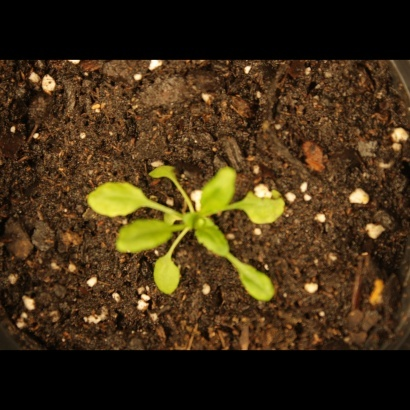leaf: (84, 178, 156, 219), (113, 216, 175, 257), (198, 163, 240, 220), (232, 259, 281, 304), (243, 184, 293, 227), (195, 221, 235, 262), (150, 256, 190, 295), (146, 162, 185, 189)
